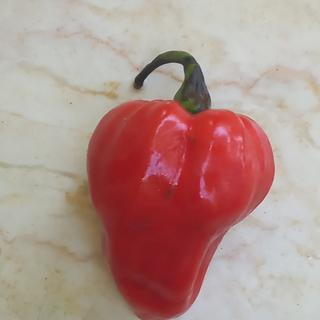Grade-A: (78, 94, 276, 318)
